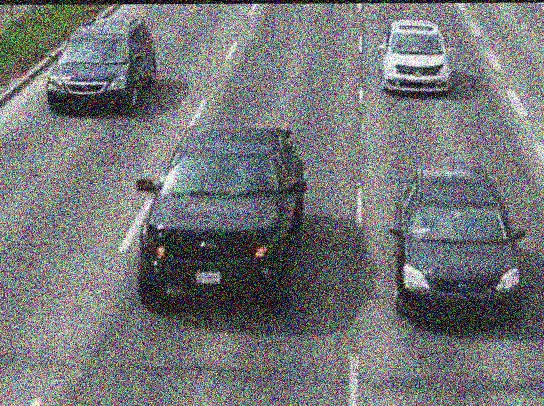car: (130, 119, 313, 312), (387, 145, 530, 326), (41, 13, 159, 114), (374, 18, 454, 100)
